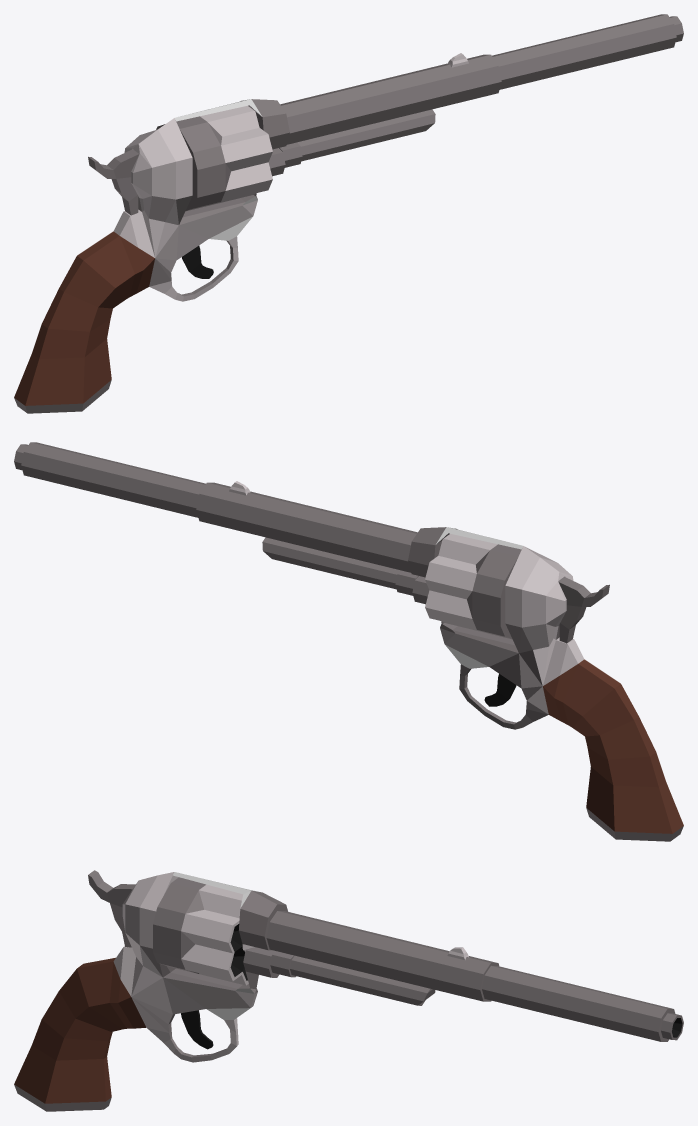
File: earp1.fbx
3 renders of one model, top to bottom at view 1: azimuth 30°, elevation 25°; view 2: azimuth 150°, elevation 25°; view 3: azimuth 330°, elevation 25°, orthographic.
Parts seen in each view (by area): view 1: Walec, Walec.003, Walec.002; view 2: Walec, Walec.003, Walec.002; view 3: Walec, Walec.003, Walec.002, Walec.001.
Boxes of the visible parts, box(x1,y1,x2,y2) form: Walec: box(14, 14, 683, 413); Walec.003: box(156, 105, 272, 211); Walec.002: box(88, 149, 139, 215); Walec: box(14, 442, 683, 841); Walec.003: box(425, 533, 521, 639); Walec.002: box(558, 577, 609, 643); Walec: box(14, 872, 683, 1111); Walec.003: box(153, 877, 248, 985); Walec.002: box(88, 870, 135, 947); Walec.001: box(181, 1010, 213, 1049).
Size of the model in its own units: 532 by 197 by 62.4.
